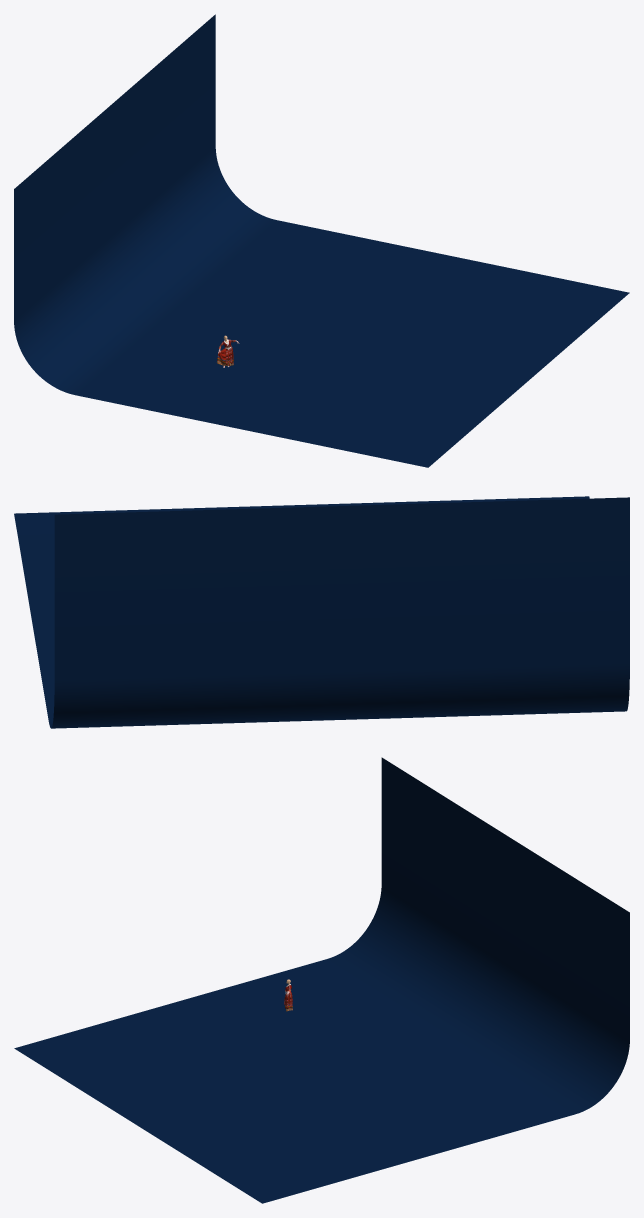
File: gril.glb
3 renders of one model, top to bottom at view 1: azimuth 30°, elevation 25°; view 2: azimuth 150°, elevation 25°; view 3: azimuth 270°, elevation 25°, orthographic. The views are drawn at different scales.
Visible parts, largest first — view 1: 平面; view 2: 平面; view 3: 平面.
Boxes of the visible parts, <box> form: 平面: <box>14,14,629,467</box>; 平面: <box>14,496,629,728</box>; 平面: <box>14,757,629,1203</box>.
Bounding box in the file's own units: 174 × 58.06 × 174.
Materials: 15 (3 with a texture image).
